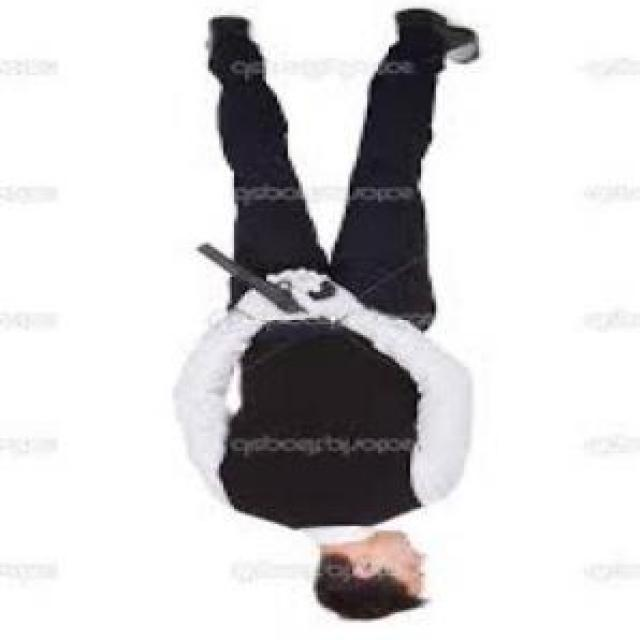pistol: (191, 240, 346, 312)
